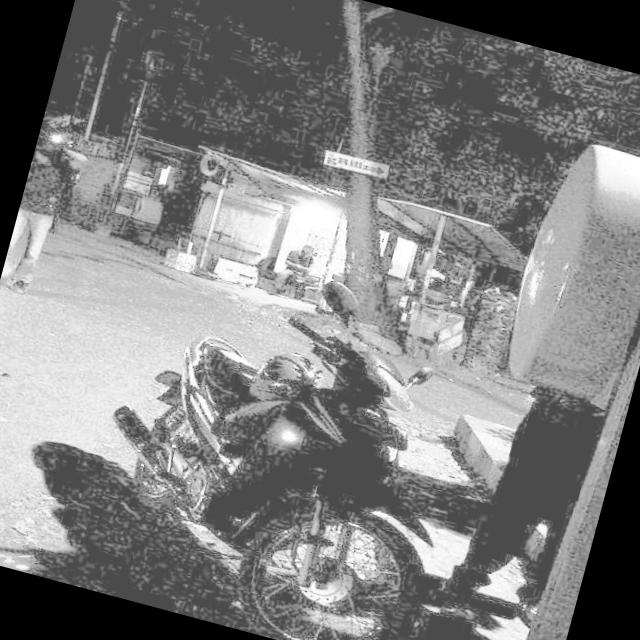Motorcycle: (66, 234, 497, 640)
